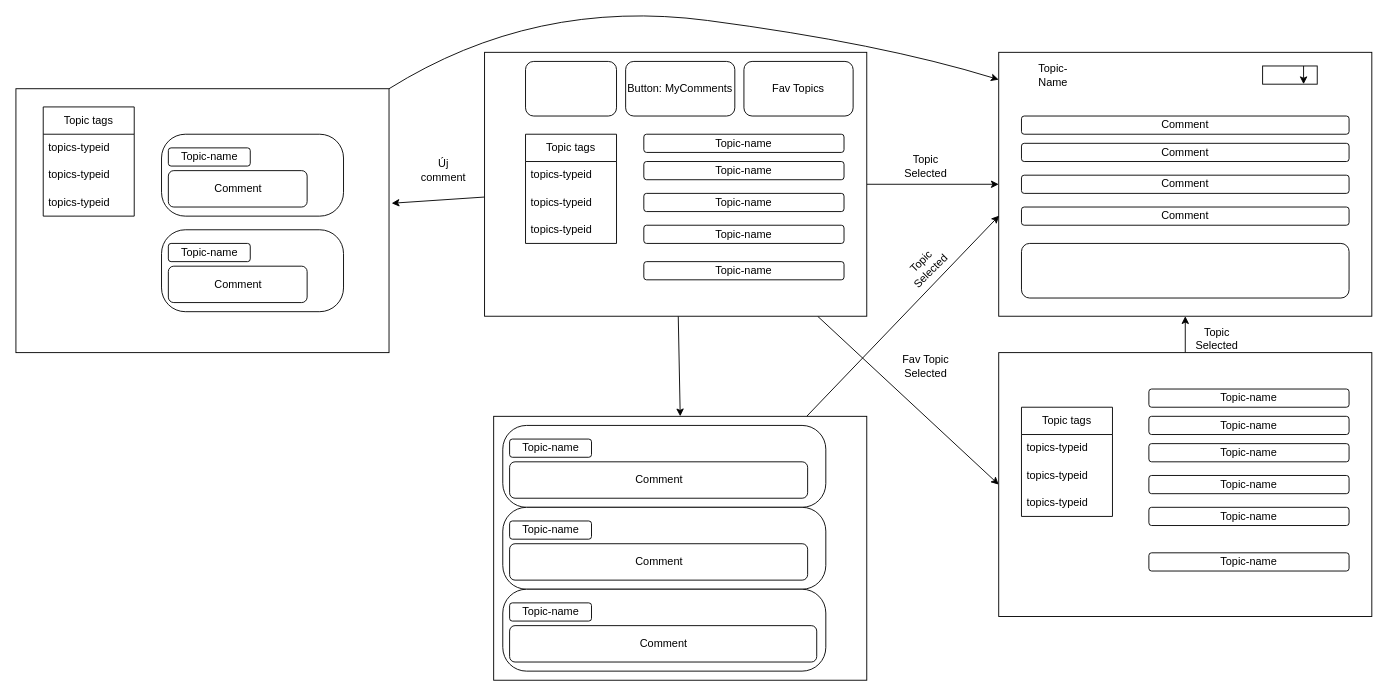
Image size: 1388x696. Some labels were removed from this diagram. The shapes that lost their labels are listed below. From the top down, each one's centre as x and y in pixels, then its label:
At (571,88): "Új-Comment értesítés".
At (1289,74): "Fav Topic".
At (1185,270): "Make New Comment Textbox".
